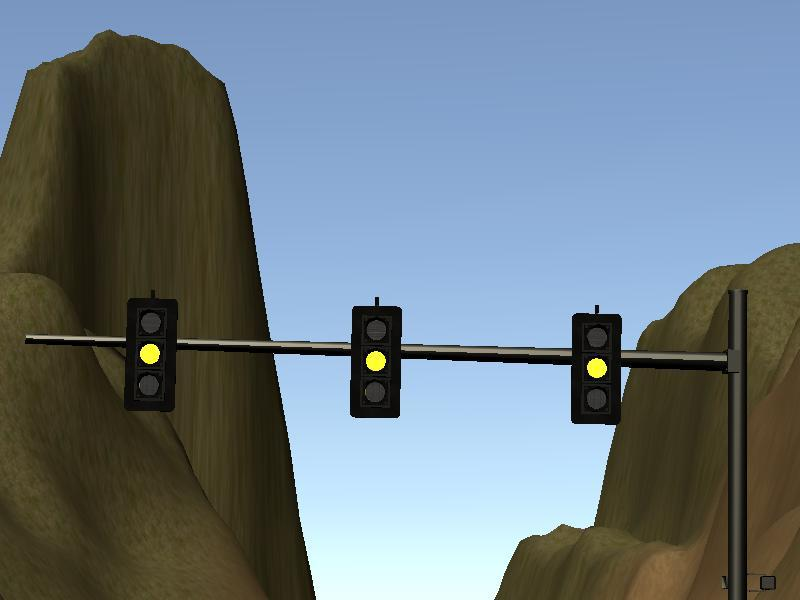Yellow: (125, 299, 176, 410), (572, 314, 622, 425), (353, 306, 400, 417)
